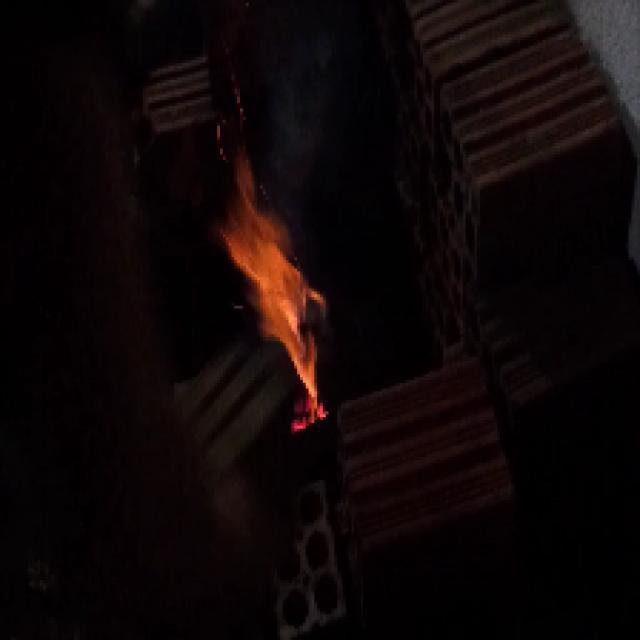Fire: (206, 180, 381, 410)
